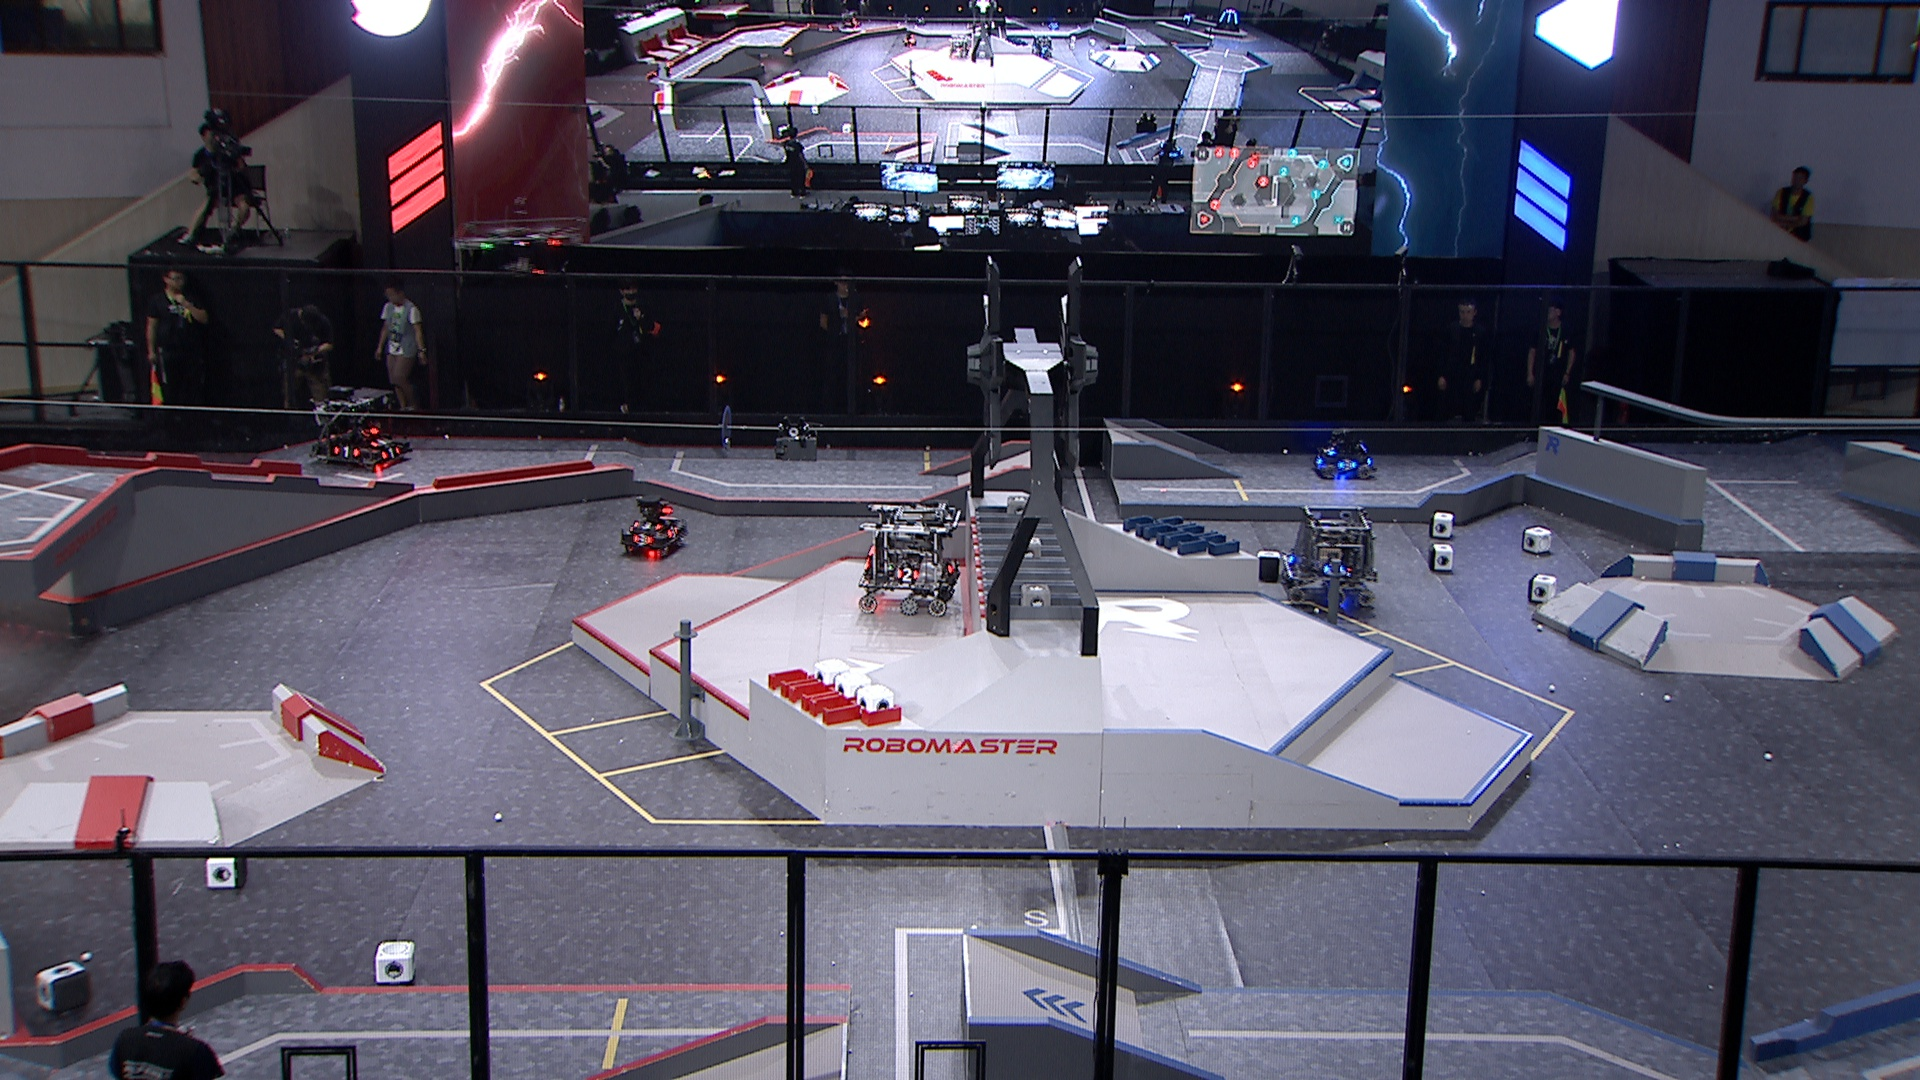armor: (332, 444, 363, 460), (632, 517, 665, 531), (895, 567, 920, 585), (632, 529, 654, 549), (376, 446, 404, 462), (367, 433, 392, 450), (1335, 455, 1356, 471), (944, 556, 961, 575), (1319, 443, 1338, 458), (665, 524, 680, 541), (1311, 452, 1327, 469)
car: (855, 495, 971, 618), (1275, 505, 1378, 609), (309, 385, 415, 473), (617, 493, 688, 562), (1305, 423, 1379, 483)
ignore: (945, 29, 977, 59), (1212, 5, 1244, 34), (1026, 32, 1058, 59), (1153, 135, 1183, 162), (837, 11, 864, 32), (1179, 11, 1197, 30), (901, 30, 916, 47)
